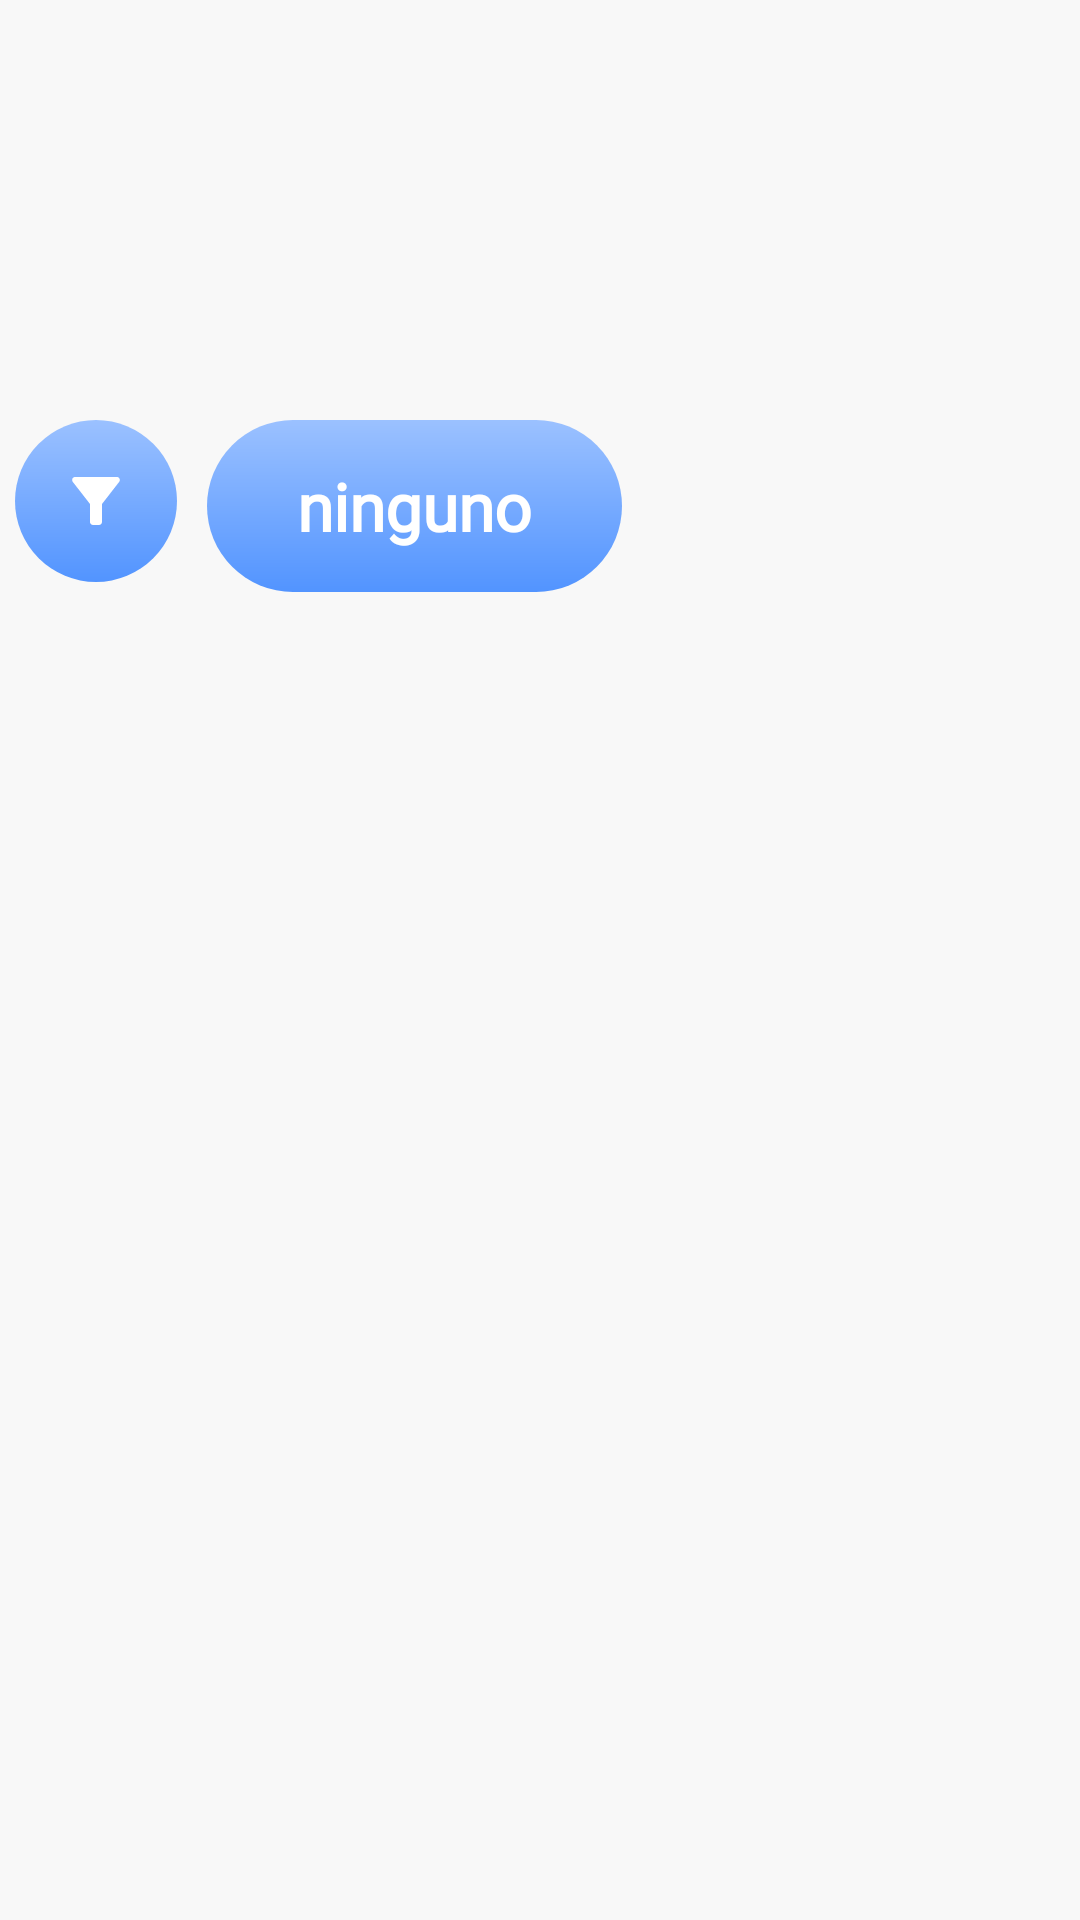

Screen size 1080×1920. Icon name, then its box in pixels as [x1,y1,x2,y2]:
boton filtrado: [15,420,177,582]
